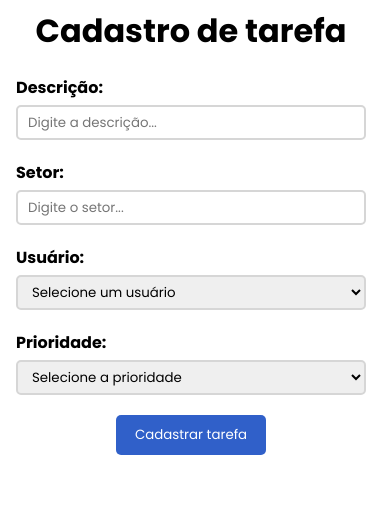
Test: CadTarefa - testes completos › Erro se prioridade não for selecionada
The image size is (383, 524).
Type "Descrição" into the field labelled "Descrição:" at point(191, 122), box [16,105,366,140]
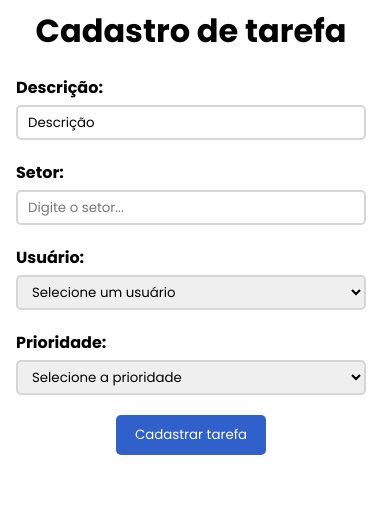
Type "TI" into the field labelled "Setor:" at point(191, 208), box [16,190,366,225]
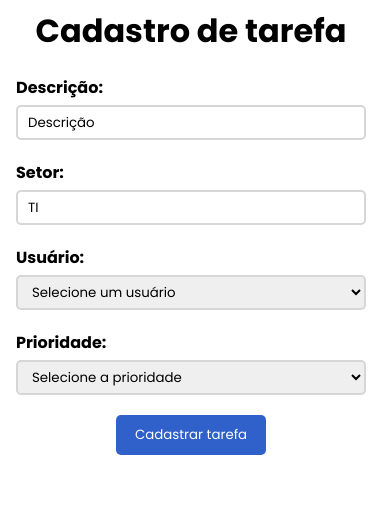
Select "João" in the dropdown labelled "Usuário:" at point(191, 292), box [16,275,366,310]
Click the button "Cadastrar tarefa" at point(191, 435), box [116,415,266,455]
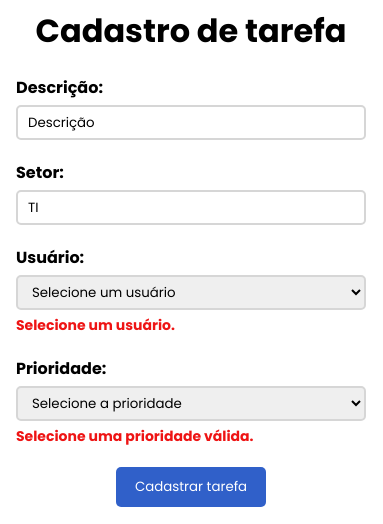
Now the text "Selecione uma prioridade válida." is shown, box [16,426,254,446]
